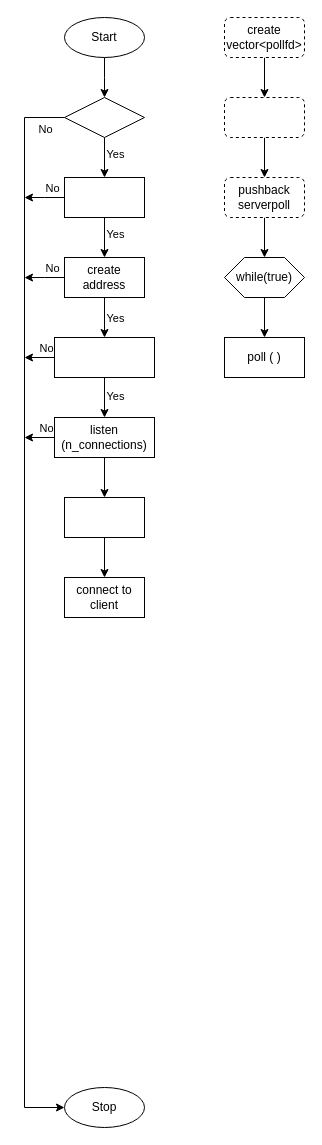
Image size: 322x1145. Some labels were removed from this diagram. Each missing label, with the centre of its shape:
"bind (socket,address)" belongs at point (104, 357).
"create pollfd server" belongs at point (264, 117).
"create socket" belongs at point (104, 197).
"gethostname" belongs at point (104, 517).
"valid port" belongs at point (104, 117).
